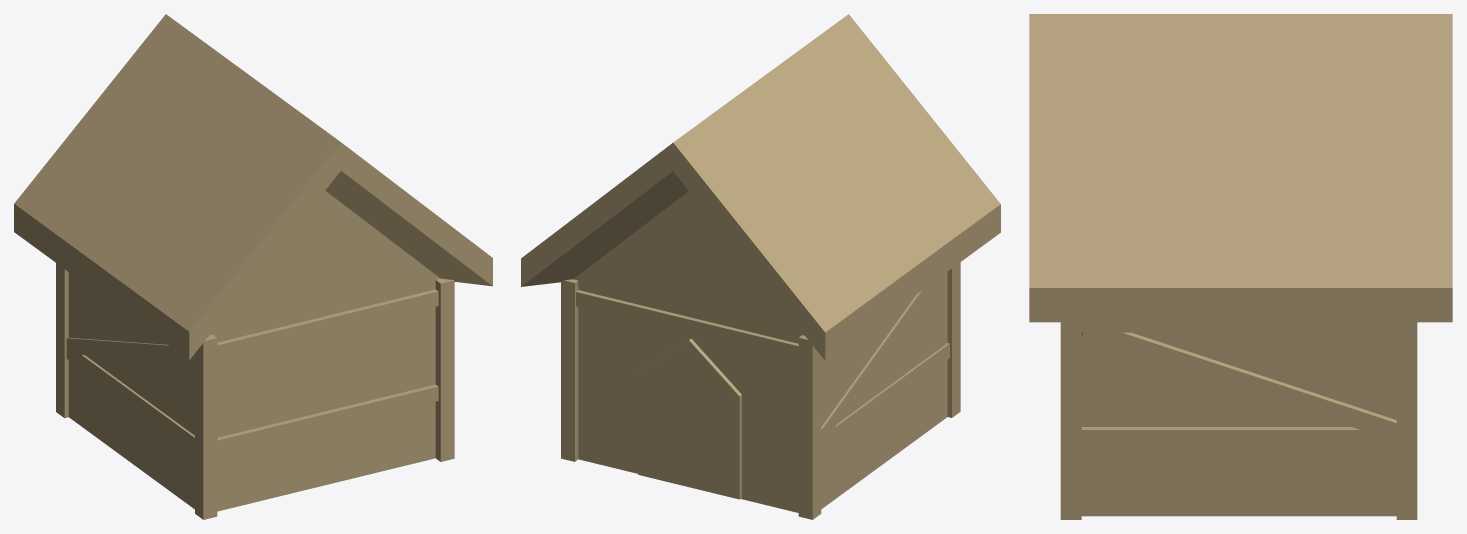
Rendered from SM_BuildingA.fbx.
3 renders of one model, left to right at view 1: azimuth 30°, elevation 25°; view 2: azimuth 150°, elevation 25°; view 3: azimuth 270°, elevation 25°, orthographic. The views are drawn at different scales.
Parts seen in each view (by area): view 1: SM_BuildingA; view 2: SM_BuildingA; view 3: SM_BuildingA.
Part boxes in pixels (bbox=[...]): SM_BuildingA: bbox=[14, 14, 492, 519]; SM_BuildingA: bbox=[521, 14, 1000, 519]; SM_BuildingA: bbox=[1029, 14, 1452, 519].
Bounding box in the file's own units: 189 × 213 × 189.
